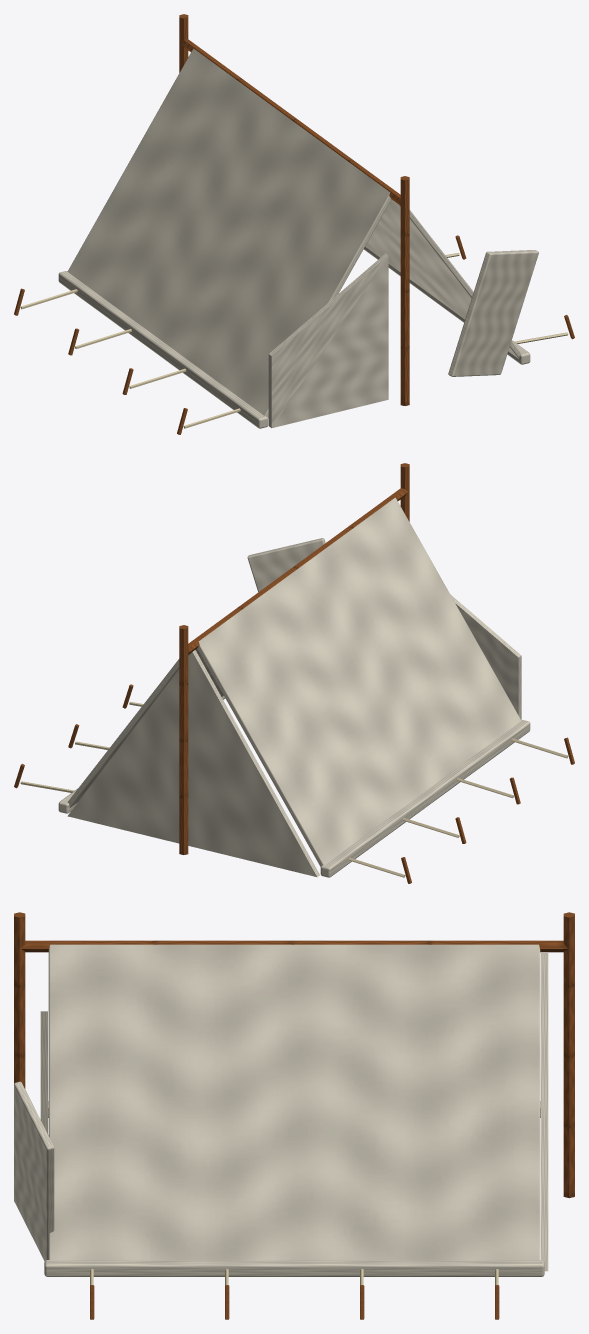
Rendered from jungle-temple-and-stone-city-canvas-tent-a2fcf344__36151.glb.
3 renders of one model, top to bottom at view 1: azimuth 30°, elevation 25°; view 2: azimuth 150°, elevation 25°; view 3: azimuth 270°, elevation 25°, orthographic. The views are drawn at different scales.
Visible parts, largest first — view 1: canvas-tent; view 2: canvas-tent; view 3: canvas-tent.
Boxes of the visible parts, x1,y1,x2,y2 form: canvas-tent: (14,14,574,434); canvas-tent: (14,463,574,883); canvas-tent: (14,912,574,1319).
Size of the model in its own units: 3.94 by 2.19 by 3.88.
3 materials, 2 textured.
